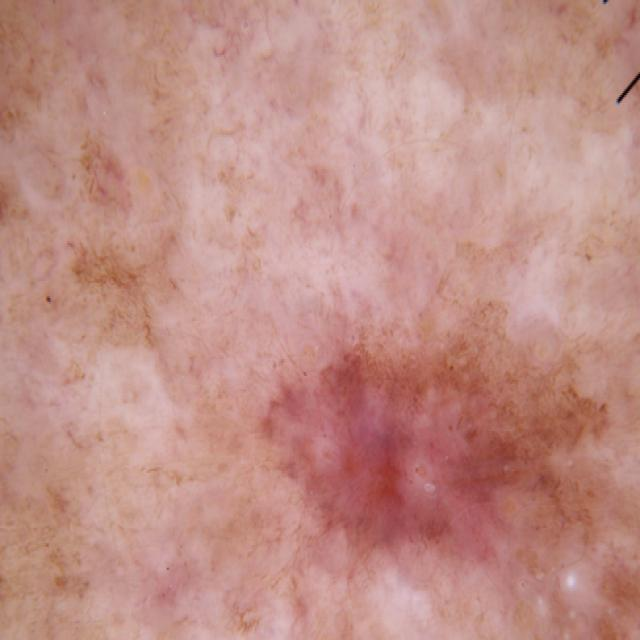Keratosis: (247, 261, 605, 605)
